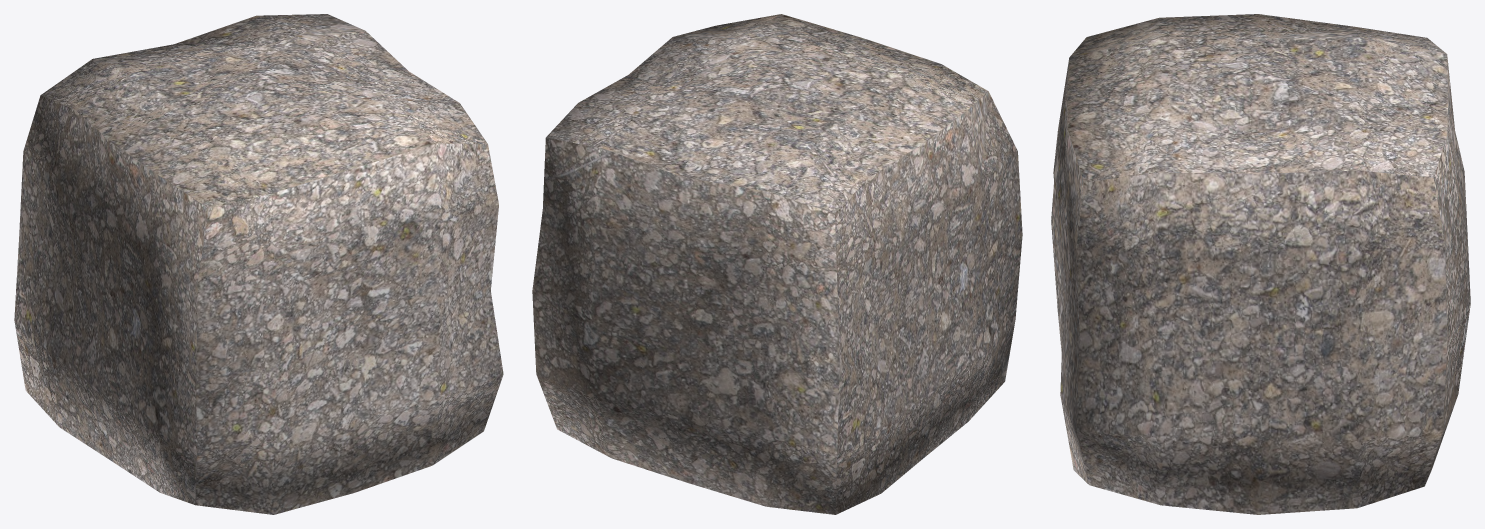
The model's file is sol1.obj.
The picture shows the model from 3 angles, left to right: view 1: azimuth 30°, elevation 25°; view 2: azimuth 150°, elevation 25°; view 3: azimuth 270°, elevation 25°; orthographic projection. The views are drawn at different scales.
Visible parts, largest first — view 1: KillerFrostIceBlock; view 2: KillerFrostIceBlock; view 3: KillerFrostIceBlock.
Boxes of the visible parts, <box> form: KillerFrostIceBlock: <box>14,14,503,514</box>; KillerFrostIceBlock: <box>532,14,1022,514</box>; KillerFrostIceBlock: <box>1051,14,1470,514</box>.
Bounding box in the file's own units: 0.583 × 0.5834 × 0.5998.
Materials: 1 (1 with a texture image).
